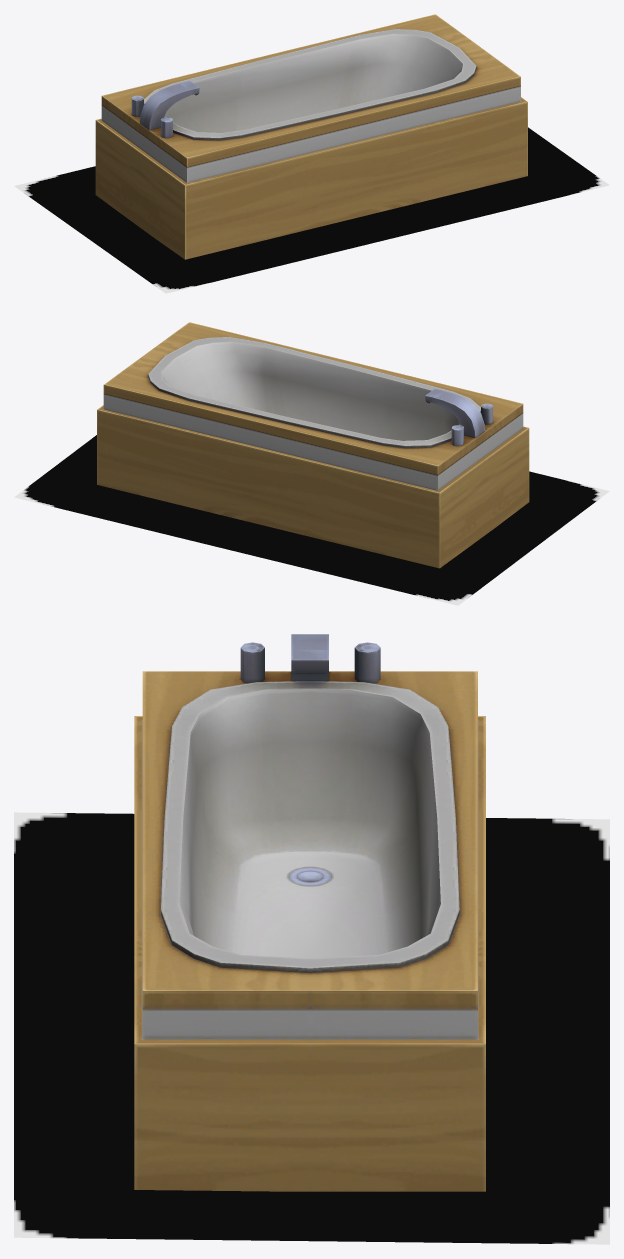
Rendered from jj_ty_bathtubs02_01.FBX.
3 views of the same model, one above another, from view 1: azimuth 30°, elevation 25°; view 2: azimuth 150°, elevation 25°; view 3: azimuth 270°, elevation 25° (orthographic). The views are drawn at different scales.
Visible parts, largest first — view 1: jj_ty_bathtubs02_01, yiying; view 2: jj_ty_bathtubs02_01, yiying; view 3: jj_ty_bathtubs02_01, yiying.
Part boxes in pixels (x1,y1,x2,y2): jj_ty_bathtubs02_01: [95, 14, 527, 259]; yiying: [14, 127, 609, 293]; jj_ty_bathtubs02_01: [97, 322, 529, 568]; yiying: [14, 435, 609, 605]; jj_ty_bathtubs02_01: [134, 634, 485, 1191]; yiying: [14, 812, 609, 1244].
Size of the model in its own units: 97.73 by 27.83 by 57.88.
2 materials, 2 textured.
